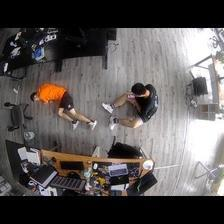fall: (31, 82, 97, 132), (101, 83, 158, 129)
